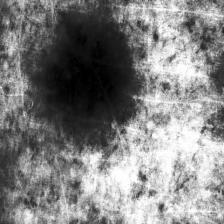Benign Marking or Mole: (43, 18, 139, 120)
